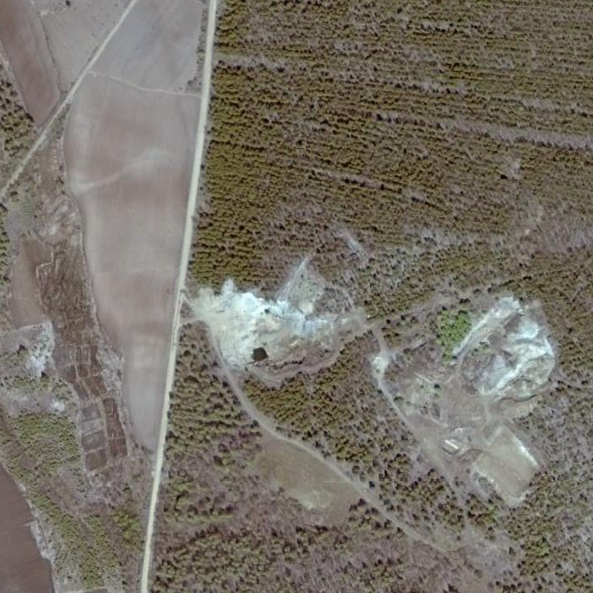slope: (181, 260, 352, 372), (450, 294, 561, 415)
